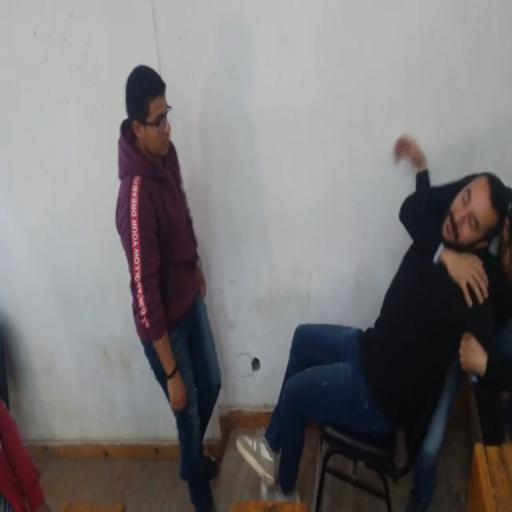violencia: (228, 74, 512, 501)
